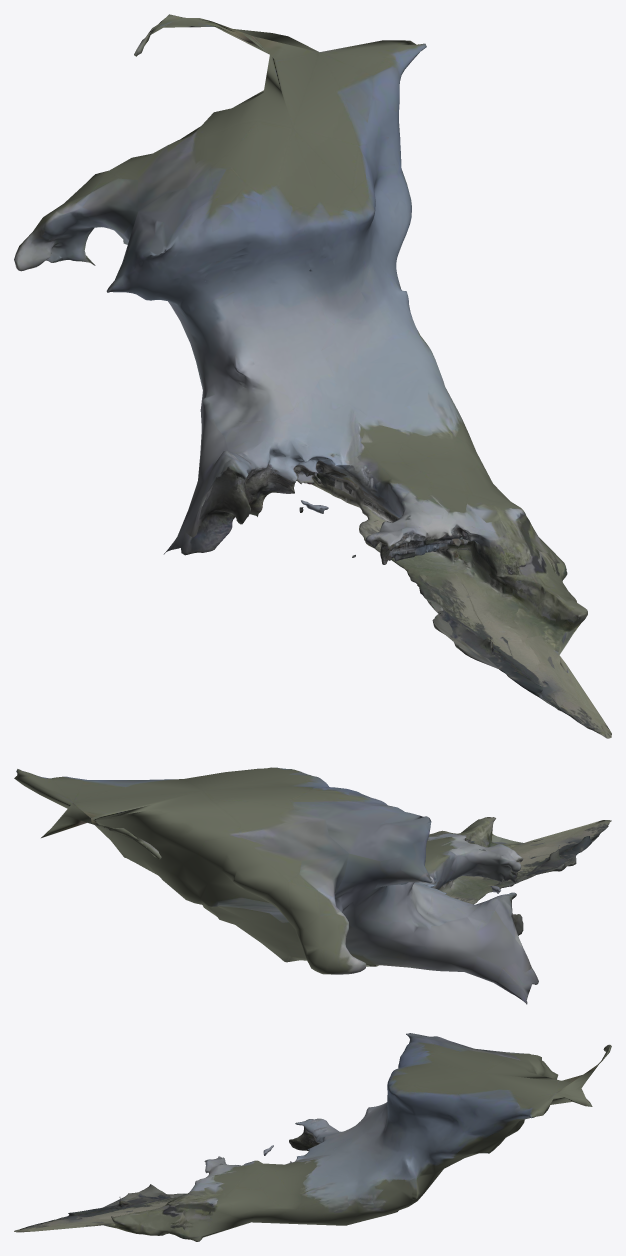
File: maryland_entry_lowpoly.glb
3 views of the same model, one above another, from view 1: azimuth 30°, elevation 25°; view 2: azimuth 150°, elevation 25°; view 3: azimuth 270°, elevation 25° (orthographic). The views are drawn at different scales.
Parts seen in each view (by area): view 1: ObjectCapture; view 2: ObjectCapture; view 3: ObjectCapture.
Part boxes in pixels (x1,y1,x2,y2): ObjectCapture: (14,14,611,738); ObjectCapture: (14,767,611,1004); ObjectCapture: (14,1033,611,1241).
Size of the model in its own units: 0.0806 by 0.0618 by 0.1641.
Materials: 1 (1 with a texture image).
